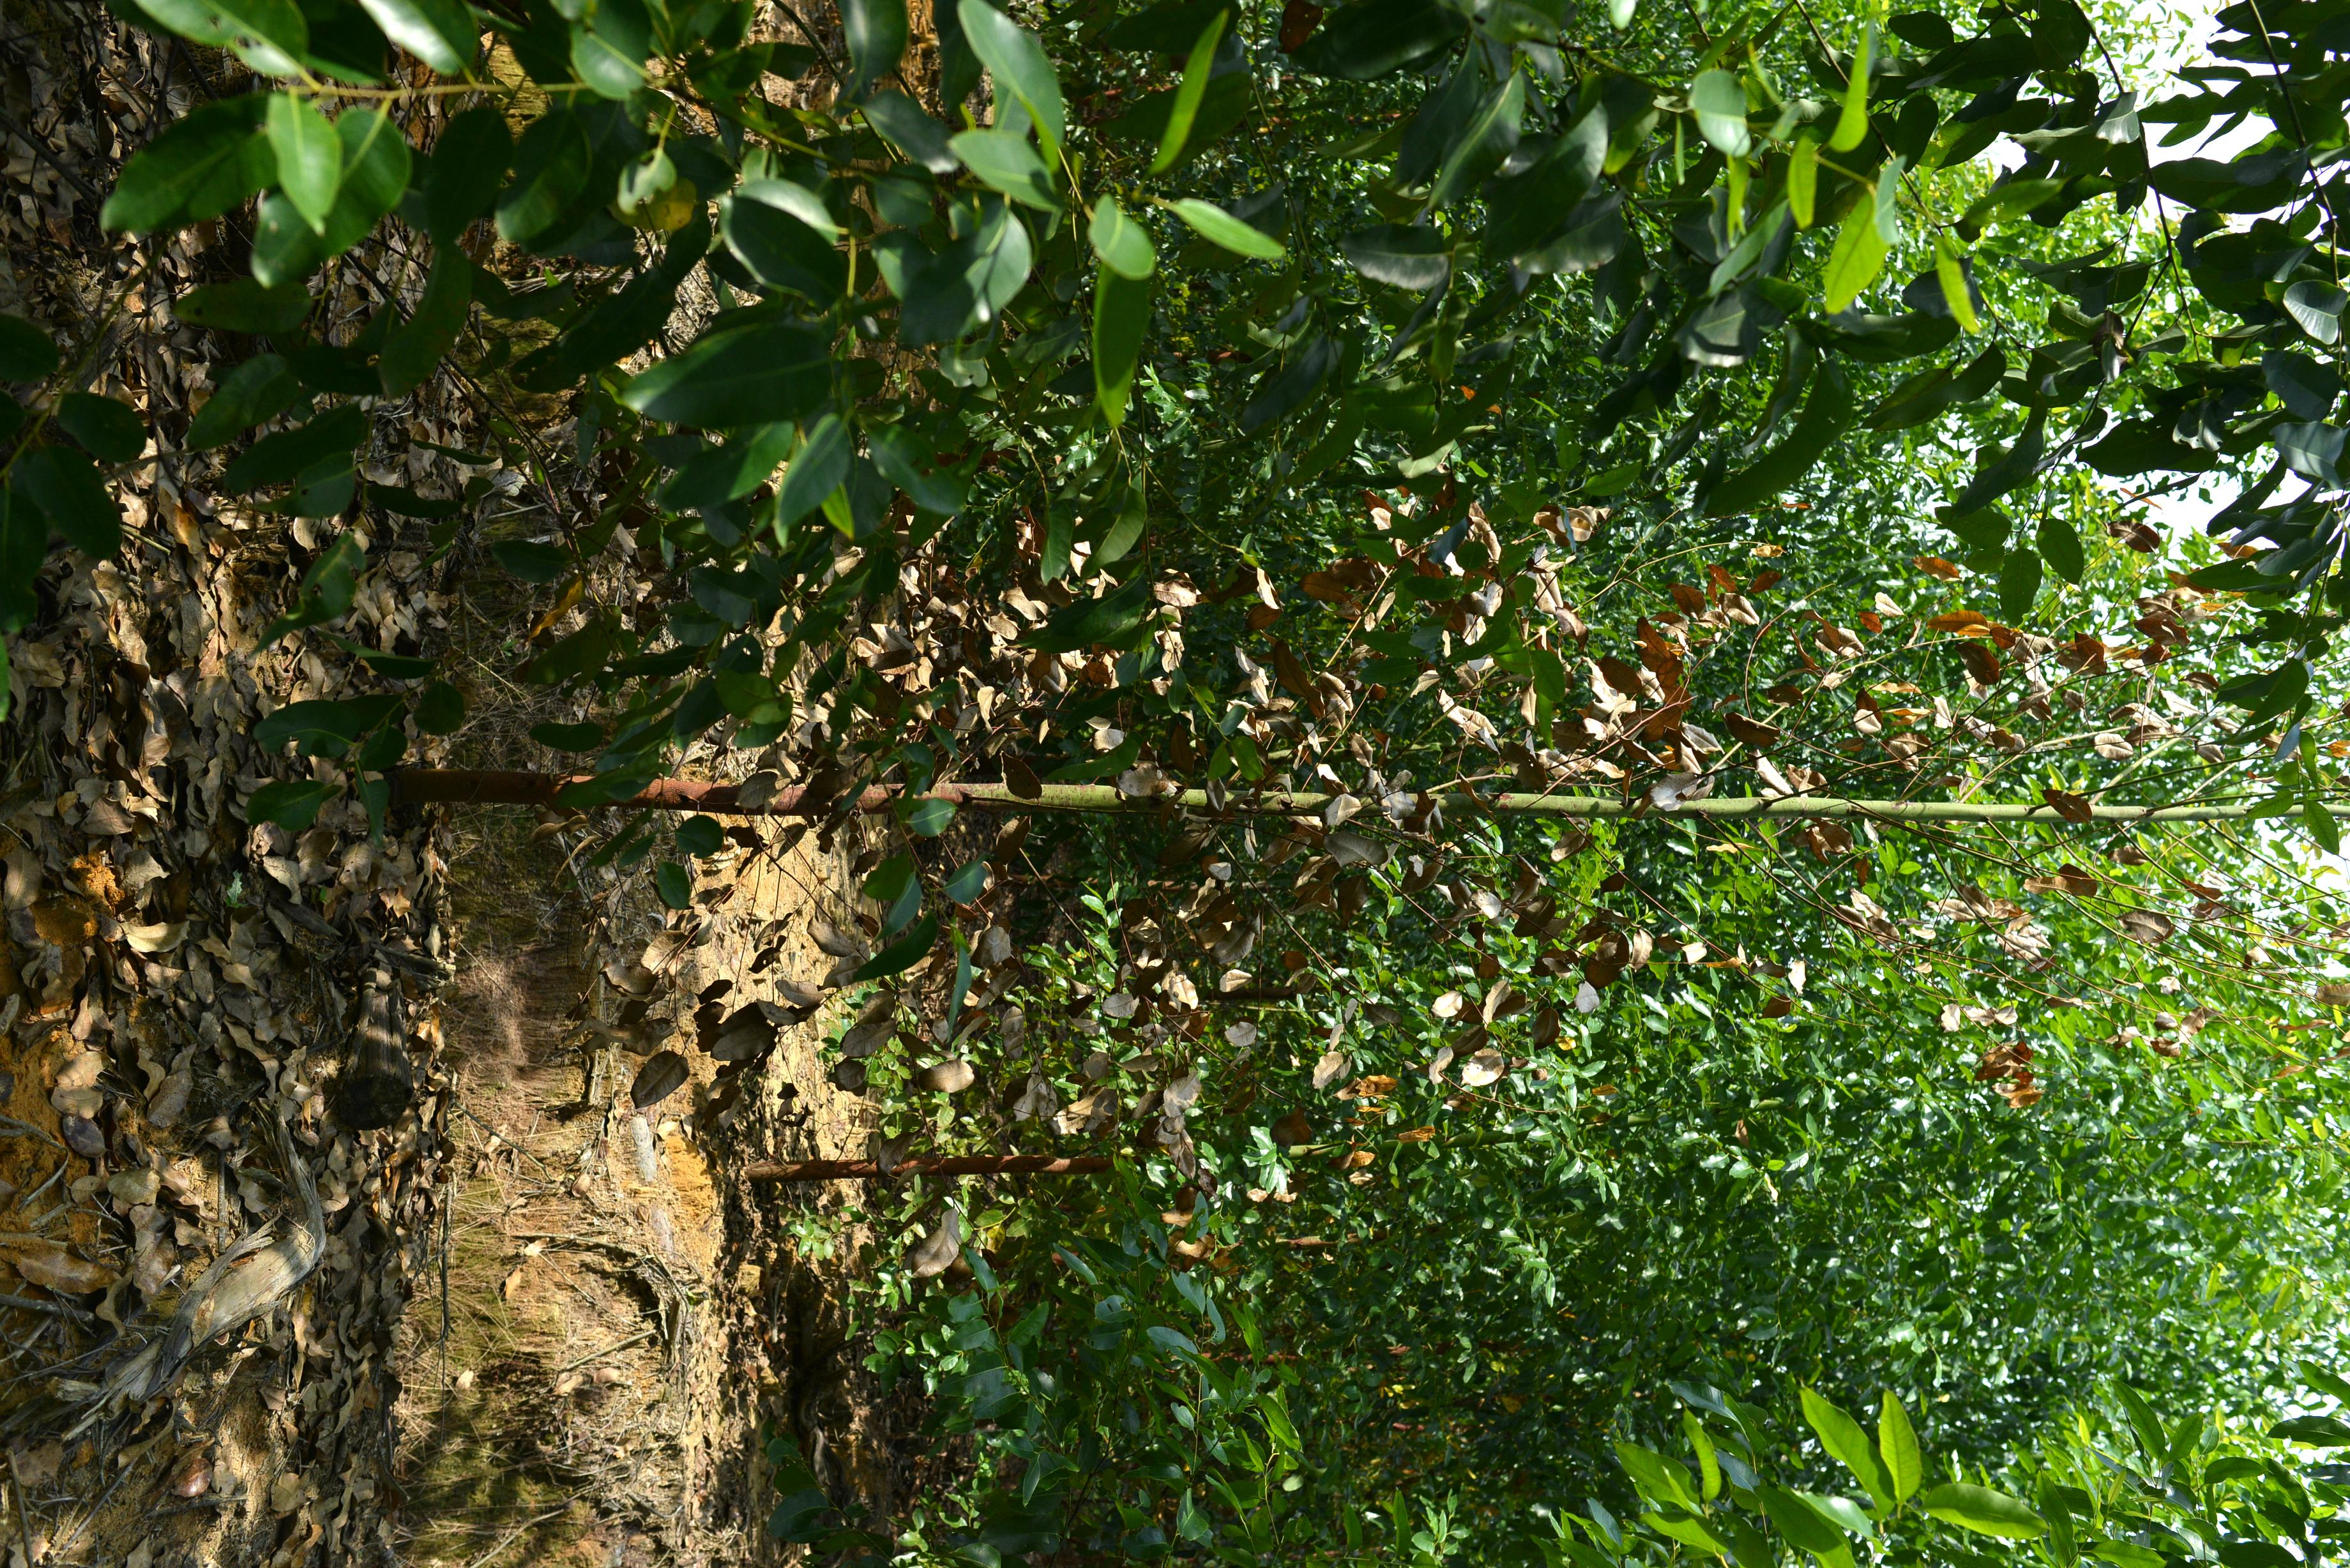Wither Tree Parts: (285, 471, 2350, 1025)
